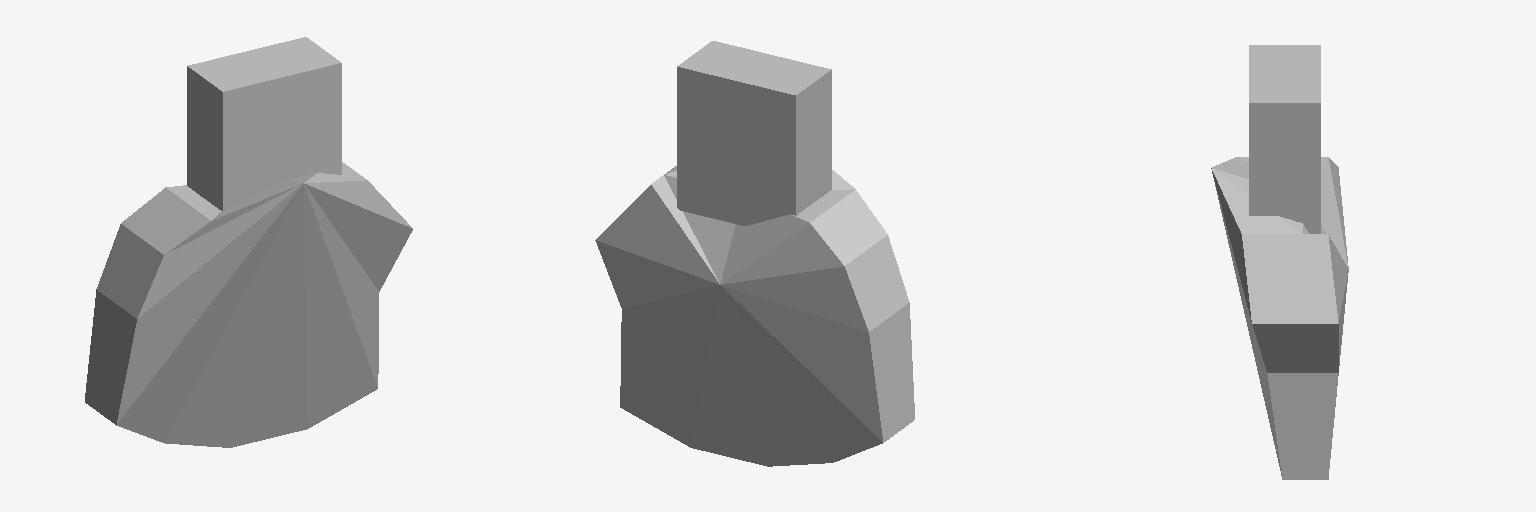
The model's file is rightPalm.obj.
3 renders of one model, left to right at view 1: azimuth 30°, elevation 25°; view 2: azimuth 150°, elevation 25°; view 3: azimuth 270°, elevation 25°, orthographic.
Visible parts, largest first — view 1: unnamed_object1; view 2: unnamed_object1; view 3: unnamed_object1.
Part boxes in pixels (x1,y1,x2,y2): unnamed_object1: (85,37,412,447); unnamed_object1: (595,41,914,466); unnamed_object1: (1211,45,1348,479).
Bounding box in the file's own units: 6.5 × 8.1 × 2.7.